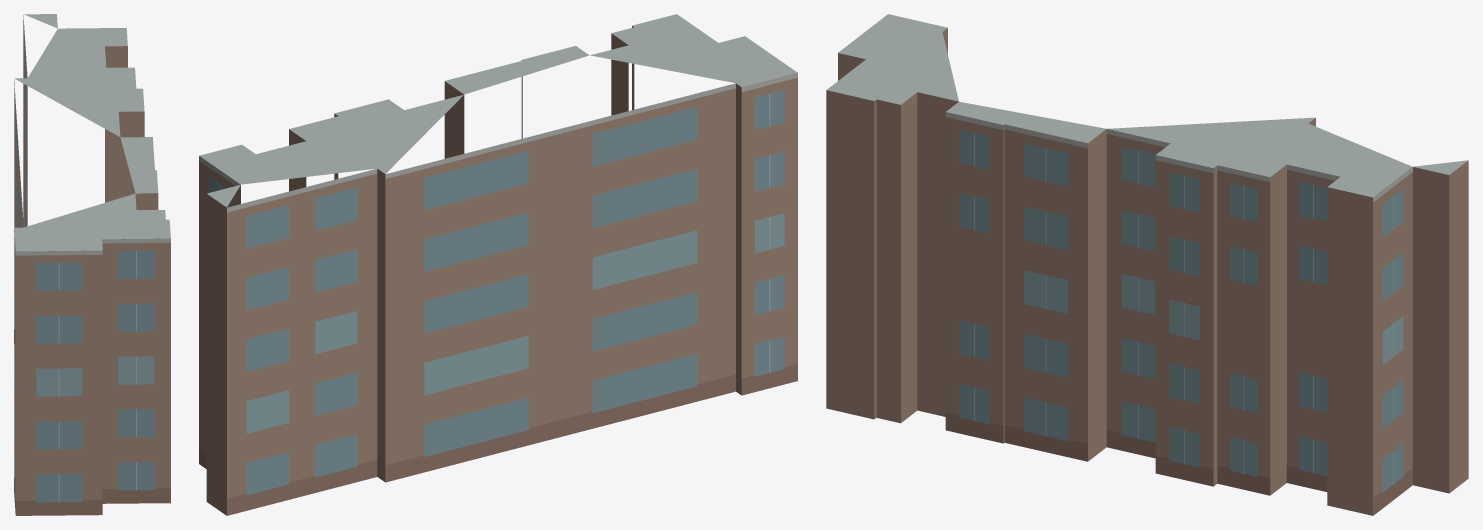
Rendered from survey-upis-32543170.glb.
3 views of the same model, side by side, from view 1: azimuth 30°, elevation 25°; view 2: azimuth 150°, elevation 25°; view 3: azimuth 270°, elevation 25° (orthographic). The views are drawn at different scales.
Visible parts, largest first — view 1: survey-upis-32543170.tmp; view 2: survey-upis-32543170.tmp; view 3: survey-upis-32543170.tmp.
Boxes of the visible parts, <box> form: survey-upis-32543170.tmp: <box>14,14,170,515</box>; survey-upis-32543170.tmp: <box>199,14,797,515</box>; survey-upis-32543170.tmp: <box>826,14,1468,515</box>.
Bounding box in the file's own units: 18.85 × 15.25 × 27.89.
